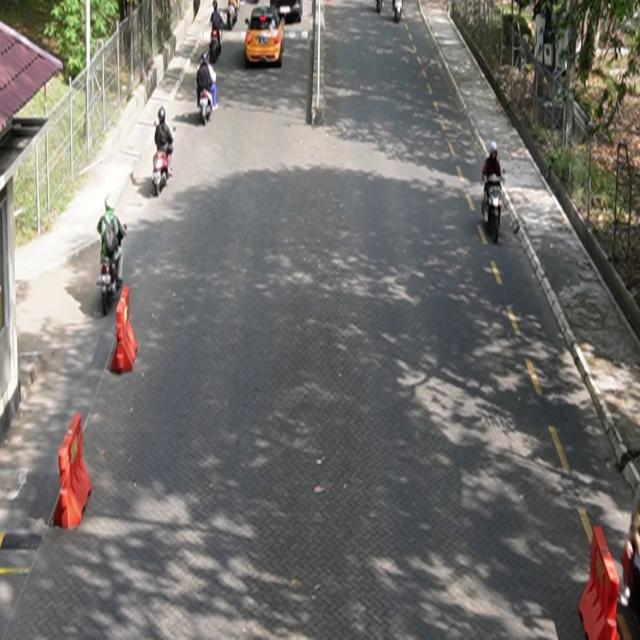car: (245, 6, 286, 68)
